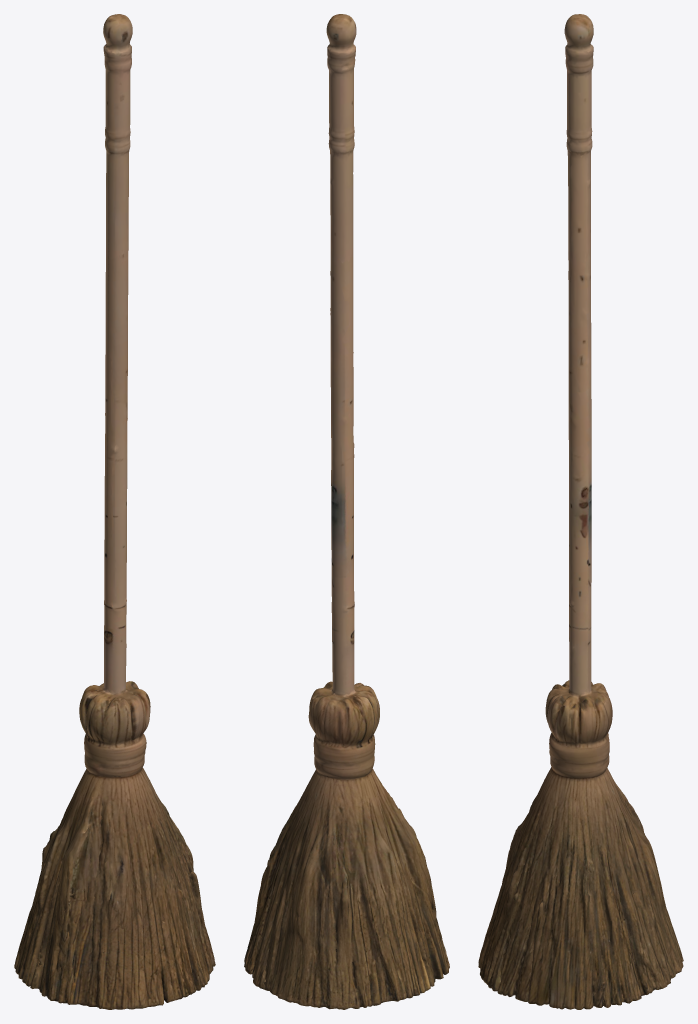
The model's file is detailed_realistic_model_broomstick_01.glb.
The picture shows the model from 3 angles, left to right: view 1: azimuth 30°, elevation 25°; view 2: azimuth 150°, elevation 25°; view 3: azimuth 270°, elevation 25°; orthographic projection.
Parts seen in each view (by area): view 1: tripo_node_d8a868cd-67f9-4884-b2f5-d43e5e749dfb; view 2: tripo_node_d8a868cd-67f9-4884-b2f5-d43e5e749dfb; view 3: tripo_node_d8a868cd-67f9-4884-b2f5-d43e5e749dfb.
Part boxes in pixels (x1=…): tripo_node_d8a868cd-67f9-4884-b2f5-d43e5e749dfb: x1=14, y1=14, x2=215, y2=1009; tripo_node_d8a868cd-67f9-4884-b2f5-d43e5e749dfb: x1=244, y1=14, x2=449, y2=1009; tripo_node_d8a868cd-67f9-4884-b2f5-d43e5e749dfb: x1=478, y1=14, x2=683, y2=1009.
Bounding box in the file's own units: 0.1928 × 1 × 0.1947.
Materials: 1 (1 with a texture image).
